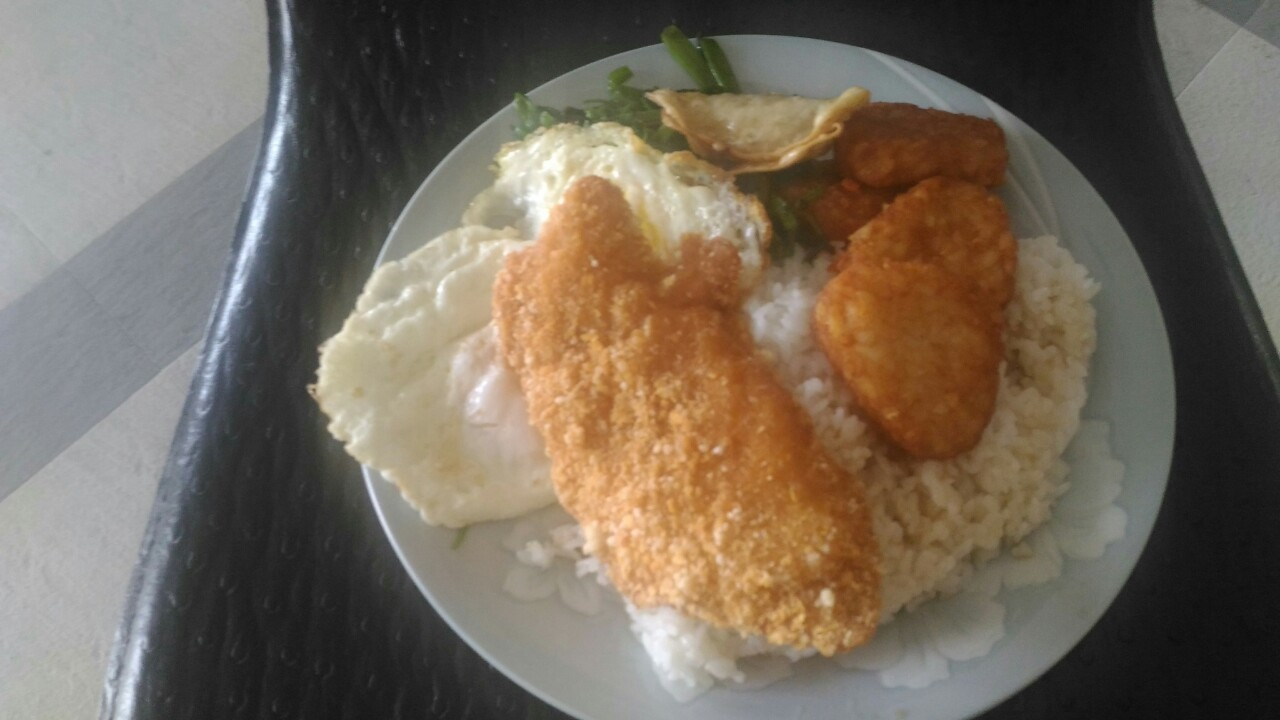fried_chicken: (496, 178, 884, 656)
fried_dumplings: (656, 88, 835, 175)
rice: (1017, 235, 1095, 531), (891, 451, 1016, 576)
triangle_hash_brown: (814, 106, 1015, 454)
